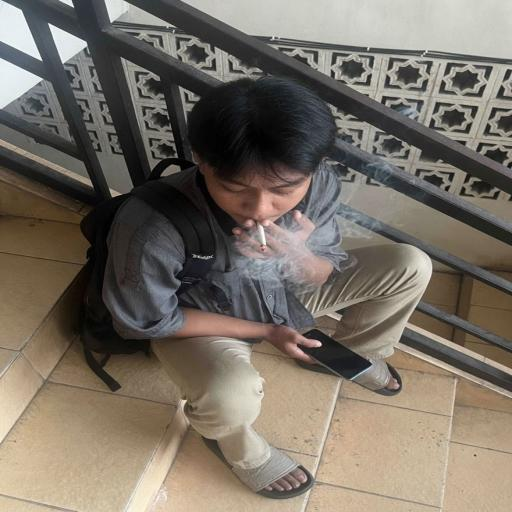asap rokok: (220, 184, 311, 283)
